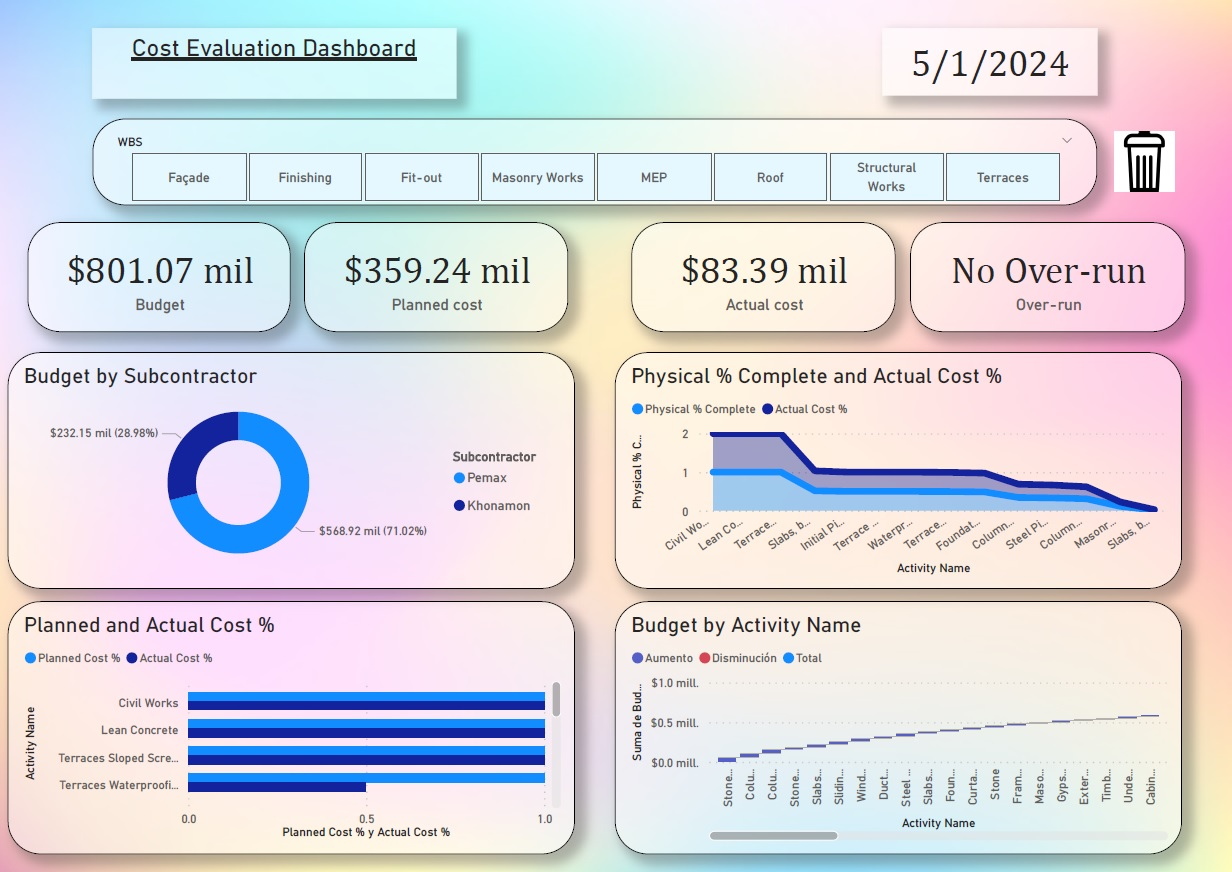

Layout of this report page (visuals, bound fields, positions):
{"tool":"powerbi","page":{"name":"Cost Evaluation Dashboard","canvas":[1123,794],"ordinal":0},"visuals":[{"type":"card","fields":{"Values":["Sum(Planned cost.Budget)"]},"box":[28.8,201.9,239.6,100.3],"z":0},{"type":"card","fields":{"Values":["Sum(Planned cost.Planned cost)"]},"box":[279.7,201.9,240,100],"z":1000},{"type":"card","fields":{"Values":["Sum(Actual cost.Actual cost)"]},"box":[577,201.9,239.6,100.3],"z":2000},{"type":"card","fields":{"Values":["Actual cost.Over-run"]},"box":[830.4,201.9,250,100],"z":3000},{"type":"stackedAreaChart","title":"Physical % Complete and Actual Cost %","fields":{"Y":["Actual cost.Physical % Complete","Actual cost.Actual Cost %"],"Category":["Actual cost.Activity Name"]},"box":[561.9,319.9,515,215],"z":4000},{"type":"donutChart","title":"Budget by Subcontractor","fields":{"Y":["Sum(Planned cost.Budget)"],"Category":["Planned cost.Subcontractor"]},"box":[11.3,319.9,515,215],"z":5000},{"type":"clusteredBarChart","title":"Planned and Actual Cost %","fields":{"Y":["Planned cost.Planned Cost %","Actual cost.Actual Cost %"],"Category":["Actual cost.Activity Name"]},"box":[11.3,545.6,515,230],"z":6000},{"type":"waterfallChart","title":"Budget by Activity Name","fields":{"Y":["Sum(Planned cost.Budget)"],"Category":["Planned cost.Activity Name"]},"box":[561.9,545.6,515,230],"z":7000},{"type":"slicer","fields":{"Values":["Planned cost.WBS"]},"box":[87.8,107.9,911.9,79],"z":8000},{"type":"image","box":[1004.7,115.4,75.3,64],"z":9000},{"type":"textbox","box":[87.8,26.3,329.9,64],"z":10000},{"type":"card","fields":{"Values":["Actual cost.Actual Date"]},"box":[805.3,26.3,194.4,60.2],"z":11000}]}

Visuals, with their boxes in screenshot pixels (x1, y1, x2, y2), scaled from the page's 1123x794 canvas onto the 1232x872 screenshot:
card - Sum(Planned cost.Budget): (left=32, top=222, right=294, bottom=332)
card - Sum(Planned cost.Planned cost): (left=307, top=222, right=570, bottom=332)
card - Sum(Actual cost.Actual cost): (left=633, top=222, right=896, bottom=332)
card - Actual cost.Over-run: (left=911, top=222, right=1185, bottom=332)
"Physical % Complete and Actual Cost %" stackedAreaChart: (left=616, top=351, right=1181, bottom=587)
"Budget by Subcontractor" donutChart: (left=12, top=351, right=577, bottom=587)
"Planned and Actual Cost %" clusteredBarChart: (left=12, top=599, right=577, bottom=852)
"Budget by Activity Name" waterfallChart: (left=616, top=599, right=1181, bottom=852)
slicer - Planned cost.WBS: (left=96, top=118, right=1097, bottom=205)
image: (left=1102, top=127, right=1185, bottom=197)
textbox: (left=96, top=29, right=458, bottom=99)
card - Actual cost.Actual Date: (left=883, top=29, right=1097, bottom=95)
